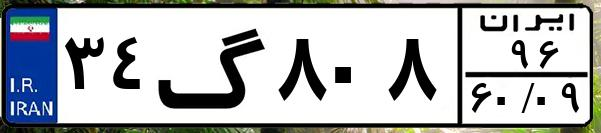0: (330, 28, 385, 110), (495, 70, 520, 125), (535, 70, 560, 125)
3: (57, 26, 110, 100)
4: (110, 28, 156, 98)
6: (537, 27, 568, 80), (470, 70, 495, 125)
8: (270, 28, 330, 110), (385, 28, 445, 110)
9: (560, 70, 590, 125), (508, 27, 537, 80)
گ: (156, 12, 270, 120)
